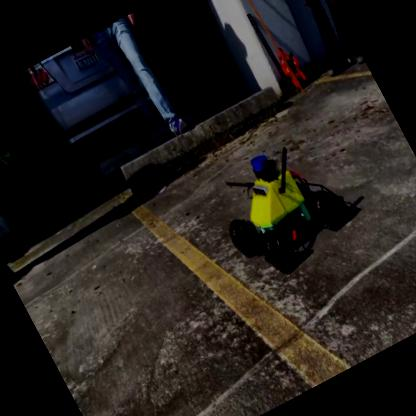mushr_car: (199, 127, 366, 289)
